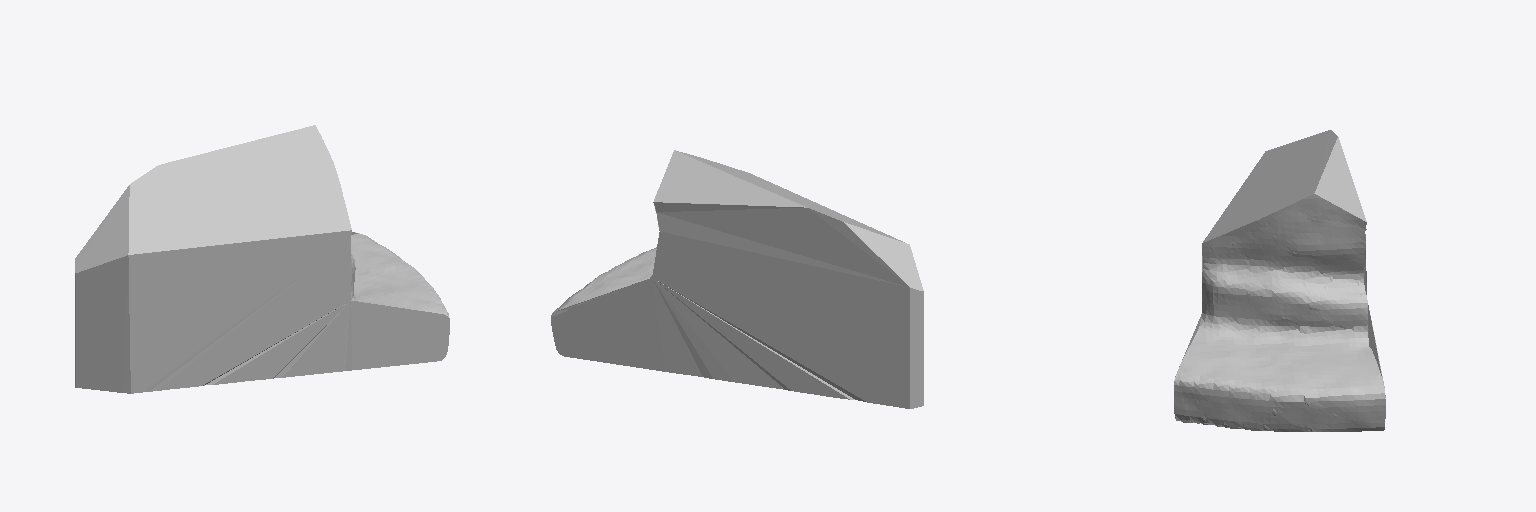
The model's file is low_cell_087.obj.
3 renders of one model, left to right at view 1: azimuth 30°, elevation 25°; view 2: azimuth 150°, elevation 25°; view 3: azimuth 270°, elevation 25°, orthographic.
Parts seen in each view (by area): view 1: low_cell.087_low_cell.086; view 2: low_cell.087_low_cell.086; view 3: low_cell.087_low_cell.086.
Boxes of the visible parts, x1=… form: low_cell.087_low_cell.086: x1=75, y1=125, x2=449, y2=393; low_cell.087_low_cell.086: x1=551, y1=150, x2=923, y2=408; low_cell.087_low_cell.086: x1=1174, y1=130, x2=1385, y2=431.
Size of the model in its own units: 1.16 by 0.6552 by 0.6321.